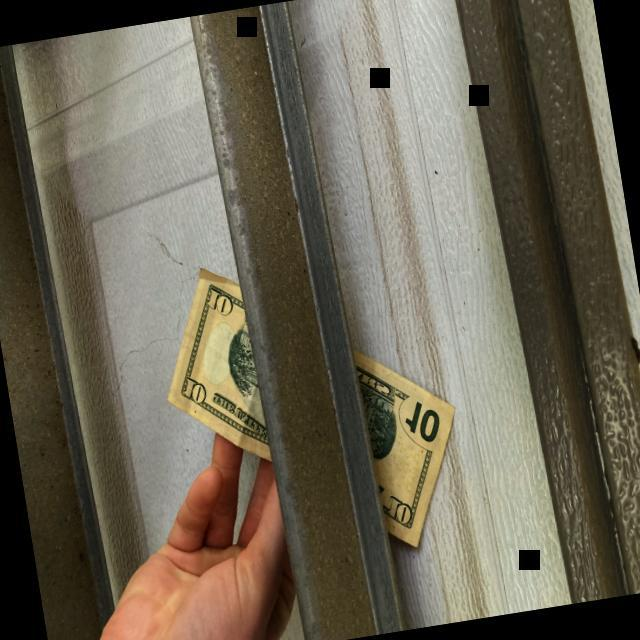ten: (165, 265, 457, 550)
